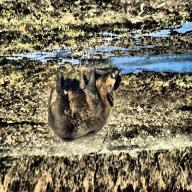boar: (42, 37, 149, 158)
